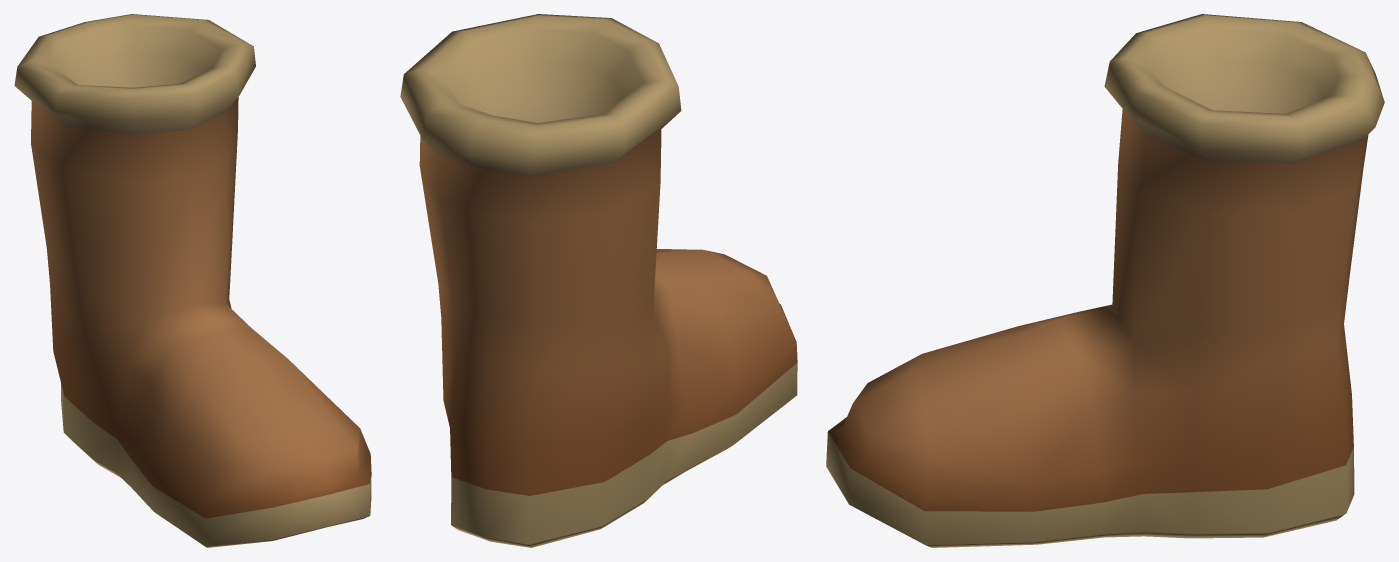
The model's file is human-clothing-winter-boot_v1.glb.
3 views of the same model, side by side, from view 1: azimuth 30°, elevation 25°; view 2: azimuth 150°, elevation 25°; view 3: azimuth 270°, elevation 25° (orthographic). The views are drawn at different scales.
Parts seen in each view (by area): view 1: Winter Boot; view 2: Winter Boot; view 3: Winter Boot.
Boxes of the visible parts, x1=… form: Winter Boot: x1=14, y1=14, x2=371, y2=547; Winter Boot: x1=400, y1=14, x2=797, y2=547; Winter Boot: x1=826, y1=14, x2=1384, y2=547.
Size of the model in its own units: 0.1436 by 0.2625 by 0.3.
